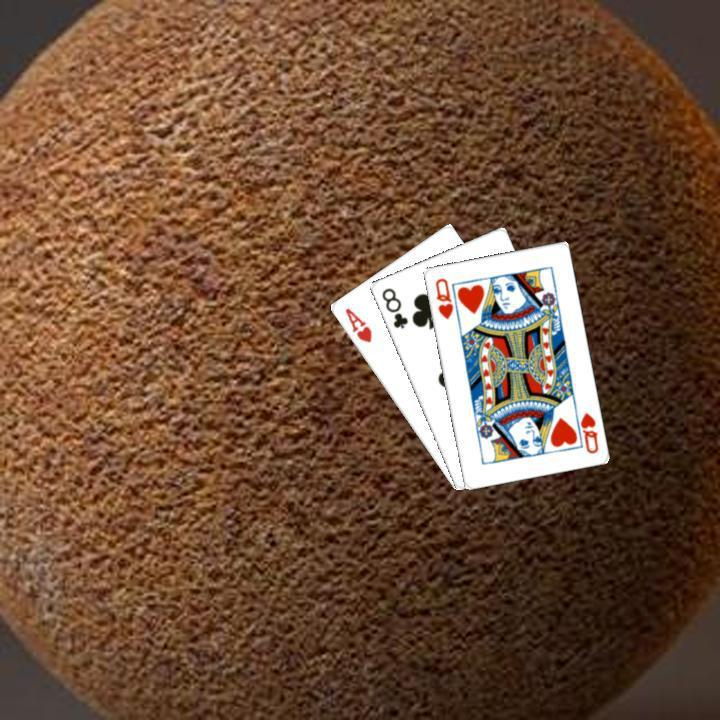8: (377, 283, 410, 331)
A: (340, 303, 374, 345)
Q: (570, 404, 600, 455), (430, 273, 455, 321)
